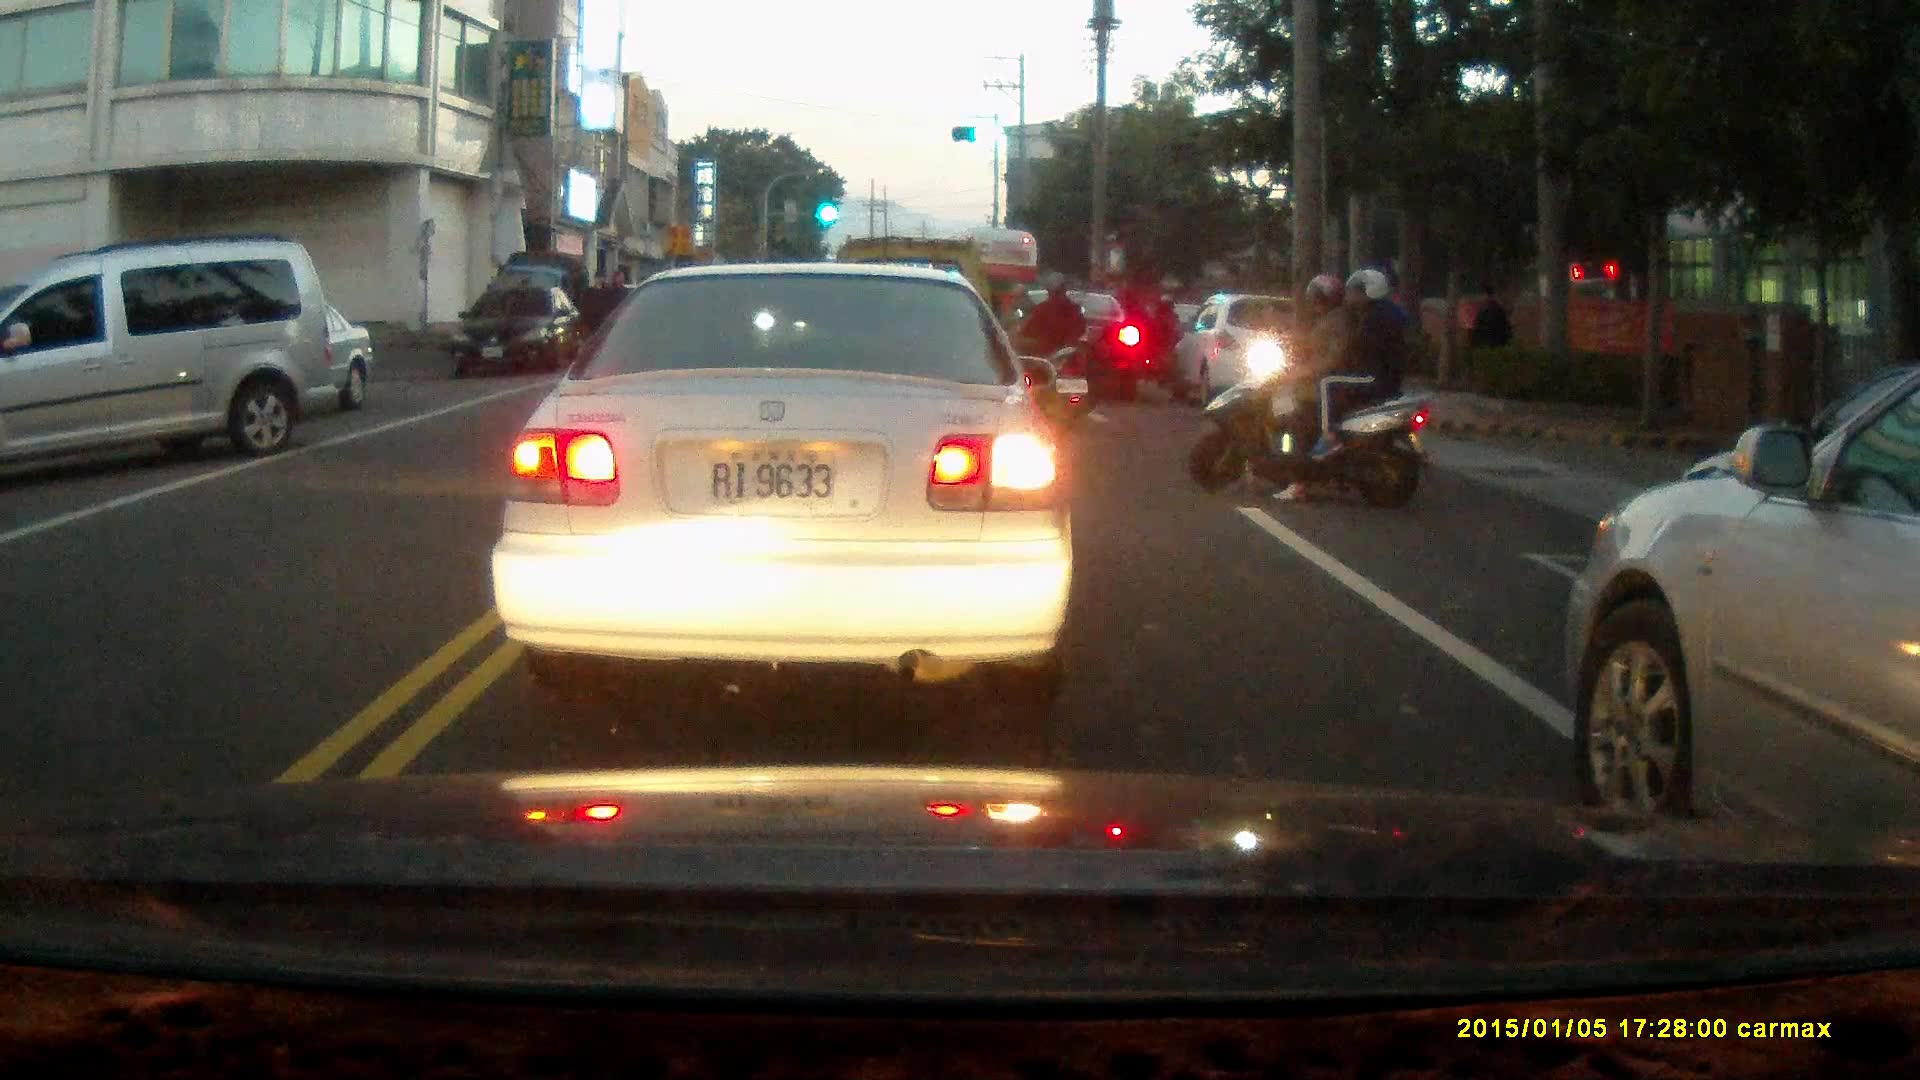pedestrian: (1463, 281, 1509, 380), (578, 272, 613, 368)
rider: (1192, 269, 1436, 510), (1014, 268, 1089, 436), (1145, 293, 1181, 390)
vehicle: (495, 259, 1080, 695), (1564, 352, 1919, 853), (1, 243, 345, 481), (1173, 294, 1326, 409), (1007, 289, 1143, 400), (453, 284, 584, 381)
